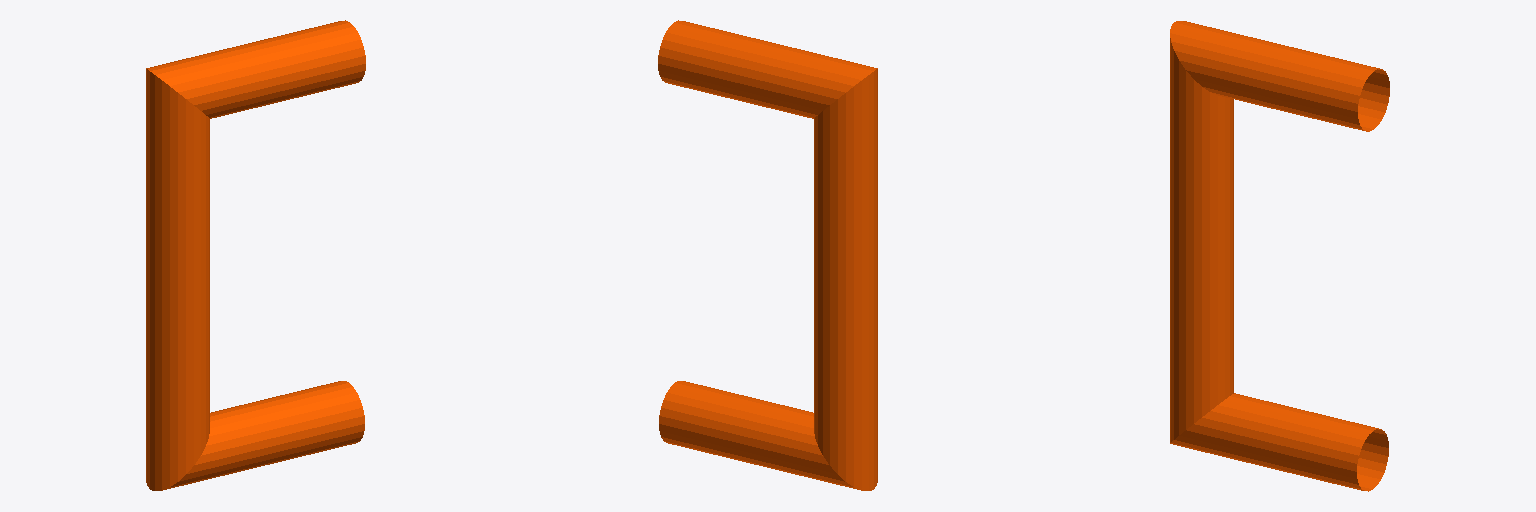
robot.urdf — Mug_6a9b31e1298ca1109c515ccf0f61e75f_body:
<?xml version="1.0" ?>
<robot name="Mug_6a9b31e1298ca1109c515ccf0f61e75f_body">
   <material name="obj_color">
      <color rgba="1.0 0.423529411765 0.0392156862745 1.0"/>
   </material>
   <link name="top">
      <inertial>
         <origin rpy="0.0007966073800054548 0.001078148432280896 0.001078149397333554" xyz="0.01447774999996061 -0.0008085009463862627 0.001602000000000001"/>
         <mass value="0.7220608470211345"/>
         <inertia ixx="0.001078148432280896" ixy="9.857983084354158e-15" ixz="9.727644003623605e-21" iyy="0.001078149397333555" iyz="1.053828100392557e-20" izz="0.0007966073800054549"/>
      </inertial>
      <visual>
         <origin rpy="0 0 0" xyz="0 0 0"/>
         <geometry>
            <mesh filename="top_watertight_tiny.stl" scale="1 1 1"/>
         </geometry>
         <material name="obj_color"/>
      </visual>
      <collision>
         <origin rpy="0 0 0" xyz="0 0 0"/>
         <geometry>
            <mesh filename="top_watertight_tiny.obj" scale="1 1 1"/>
         </geometry>
      </collision>
   </link>
   <link name="bottom">
      <inertial>
         <origin rpy="1.145076540105708e-05 4.337356236604433e-05 5.316445387008252e-05" xyz="-0.04888517731914972 0.003776910480828707 0.002329343694551995"/>
         <mass value="0.05793266011505923"/>
         <inertia ixx="4.33734559778464e-05" ixy="-5.278543657702833e-11" ixz="-5.827698180427687e-08" iyy="5.316445386979792e-05" iyz="6.38183085994422e-14" izz="1.145087178953959e-05"/>
      </inertial>
      <visual>
         <origin rpy="0 0 0" xyz="0 0 0"/>
         <geometry>
            <mesh filename="bottom_watertight_tiny.stl" scale="1 1 1"/>
         </geometry>
         <material name="obj_color"/>
      </visual>
      <collision>
         <origin rpy="0 0 0" xyz="0 0 0"/>
         <geometry>
            <mesh filename="bottom_watertight_tiny.obj" scale="1 1 1"/>
         </geometry>
      </collision>
   </link>
   <link name="world"/>
   <joint name="world_to_base" type="fixed">
      <origin xyz="0 0 0"/>
      <axis xyz="0 0 0"/>
      <parent link="world"/>
      <child link="bottom"/>
   </joint>
   <joint name="rotation" type="revolute">
      <origin xyz="0 0 0"/>
      <axis xyz="0 0 -1"/>
      <parent link="bottom"/>
      <child link="top"/>
      <dynamics damping="1.0" friction="1.0"/>
      <limit effort="0.1" velocity="0.1" lower="0" upper="0.001"/>
   </joint>
</robot>

--- What the picture shows (computed from the rendered views, not written in the file) ---
3 views of the same robot in one strip: view 1: azimuth 30°, elevation 25°; view 2: azimuth 150°, elevation 25°; view 3: azimuth 330°, elevation 25° (orthographic).
Robot: Mug_6a9b31e1298ca1109c515ccf0f61e75f_body — 3 links, 2 joints (1 revolute, 1 fixed); root link world; default pose: every joint at zero.
Visible links, largest first — view 1: bottom; view 2: bottom; view 3: bottom.
Link boxes in pixels (box(x1,y1,x2,y2)): bottom: box(146, 20, 365, 490); bottom: box(658, 20, 877, 490); bottom: box(1170, 21, 1389, 491).
Bounding box of the posed robot: 0.0483 × 0.0135 × 0.0966 m (x, y, z).
Meshes: 2 distinct files referenced, 1 mesh visuals loaded (1 binary STL); not drawn: 1 (reference not matched to a file when rendering).